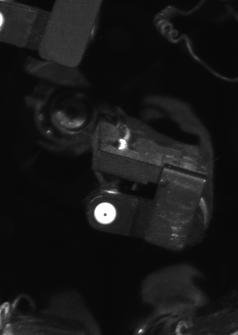fiber: (90, 199, 121, 229)
